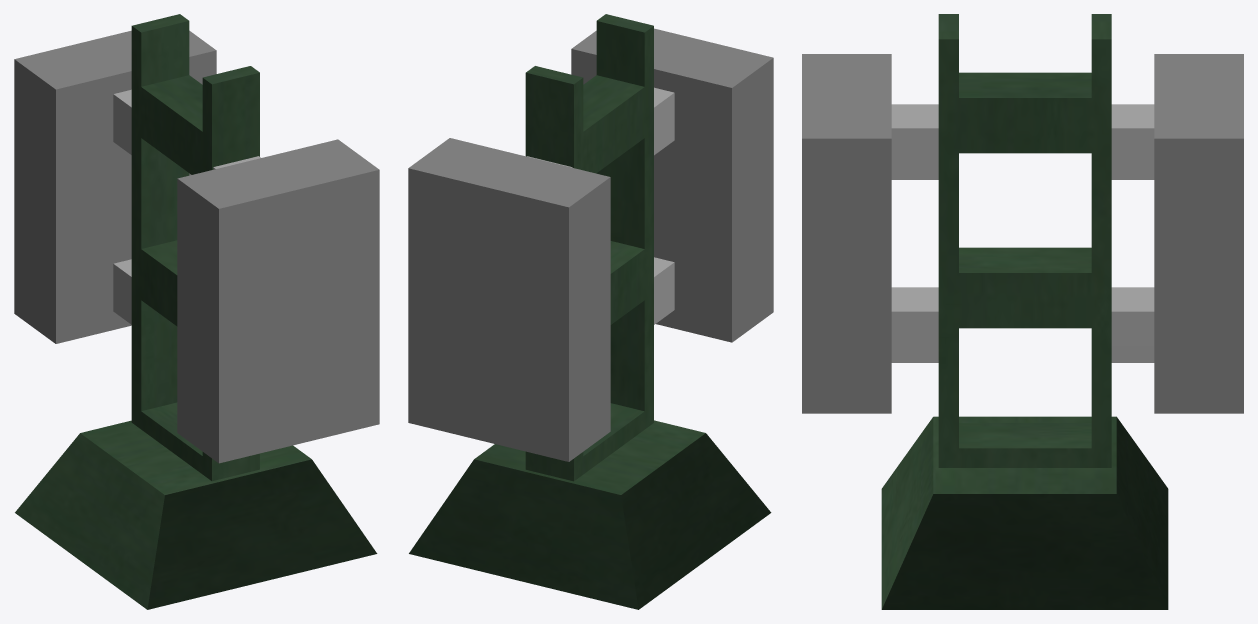
Rendered from hv_boden.obj.
3 views of the same model, side by side, from view 1: azimuth 30°, elevation 25°; view 2: azimuth 150°, elevation 25°; view 3: azimuth 270°, elevation 25° (orthographic). The views are drawn at different scales.
Parts seen in each view (by area): view 1: HV69_Mast_5.6m.004; view 2: HV69_Mast_5.6m.004; view 3: HV69_Mast_5.6m.004.
Boxes of the visible parts, <box> form: HV69_Mast_5.6m.004: <box>14,14,379,609</box>; HV69_Mast_5.6m.004: <box>408,14,773,609</box>; HV69_Mast_5.6m.004: <box>802,14,1243,609</box>.
Size of the model in its own units: 0.4972 by 1 by 0.766.
1 material, 1 textured.
